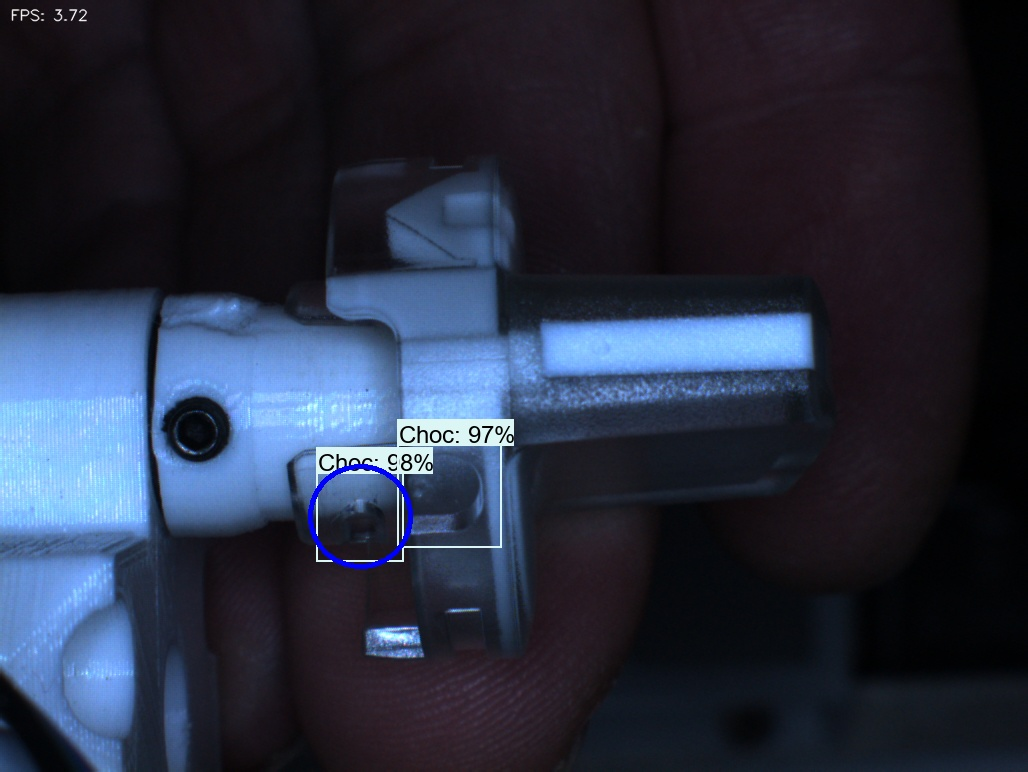DentOk: (365, 186, 429, 269)
